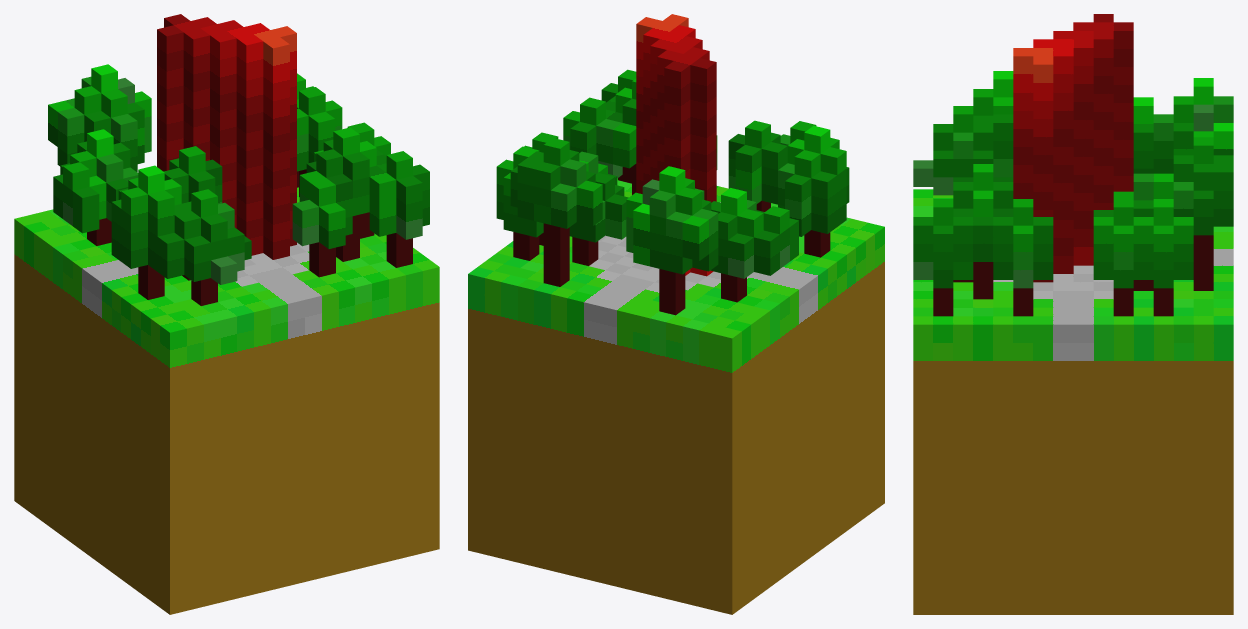
The model's file is monument_of_war.gltf.
3 renders of one model, left to right at view 1: azimuth 30°, elevation 25°; view 2: azimuth 150°, elevation 25°; view 3: azimuth 270°, elevation 25°, orthographic. The views are drawn at different scales.
Parts seen in each view (by area): view 1: Content-Mesh; view 2: Content-Mesh; view 3: Content-Mesh.
Part boxes in pixels (x1,y1,x2,y2): Content-Mesh: [14, 14, 439, 614]; Content-Mesh: [468, 14, 884, 614]; Content-Mesh: [913, 14, 1233, 614].
Bounding box in the file's own units: 16 × 28 × 16.
Materials: 1 (1 with a texture image).
